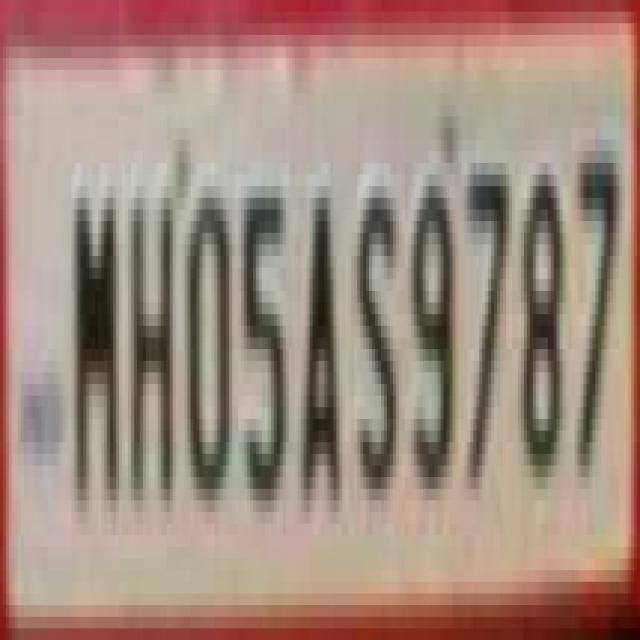license_plate: (2, 0, 601, 593)
